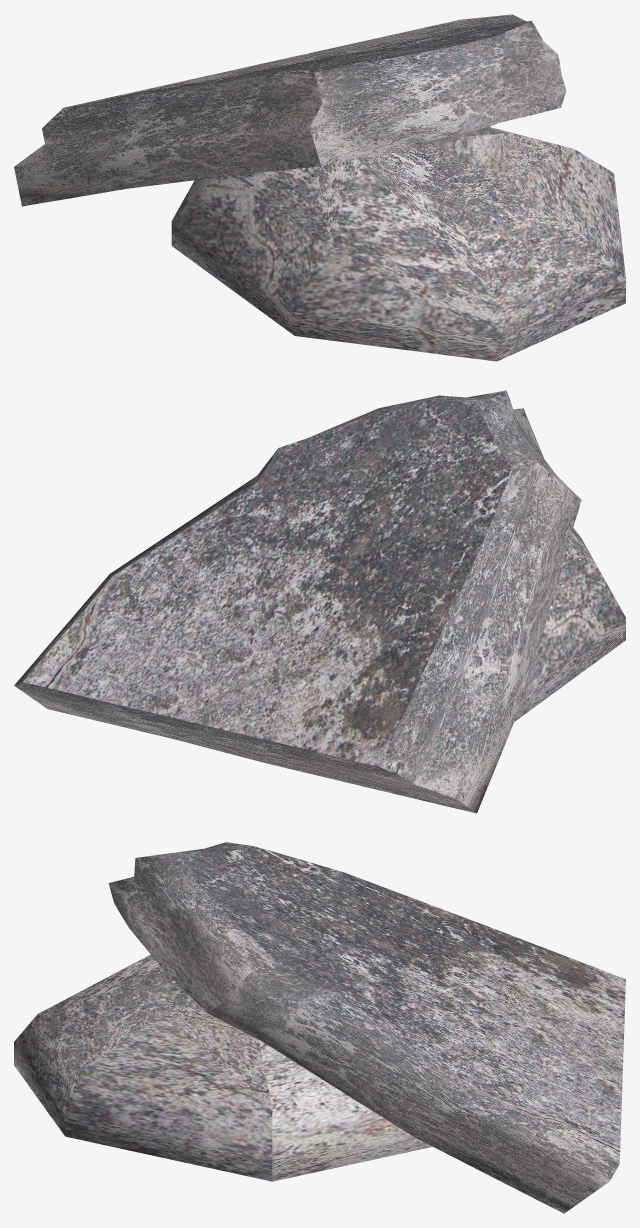
File: rubble3.dae
The picture shows the model from 3 angles, top to bottom: view 1: azimuth 30°, elevation 25°; view 2: azimuth 150°, elevation 25°; view 3: azimuth 270°, elevation 25°; orthographic projection. The views are drawn at different scales.
Parts seen in each view (by area): view 1: meshU3D; view 2: meshU3D; view 3: meshU3D.
Boxes of the visible parts, box(x1,y1,x2,y2) form: meshU3D: box(14, 14, 625, 361); meshU3D: box(14, 390, 625, 813); meshU3D: box(14, 842, 625, 1213).
Size of the model in its own units: 48.98 by 24.86 by 57.55.
1 material, 1 textured.
